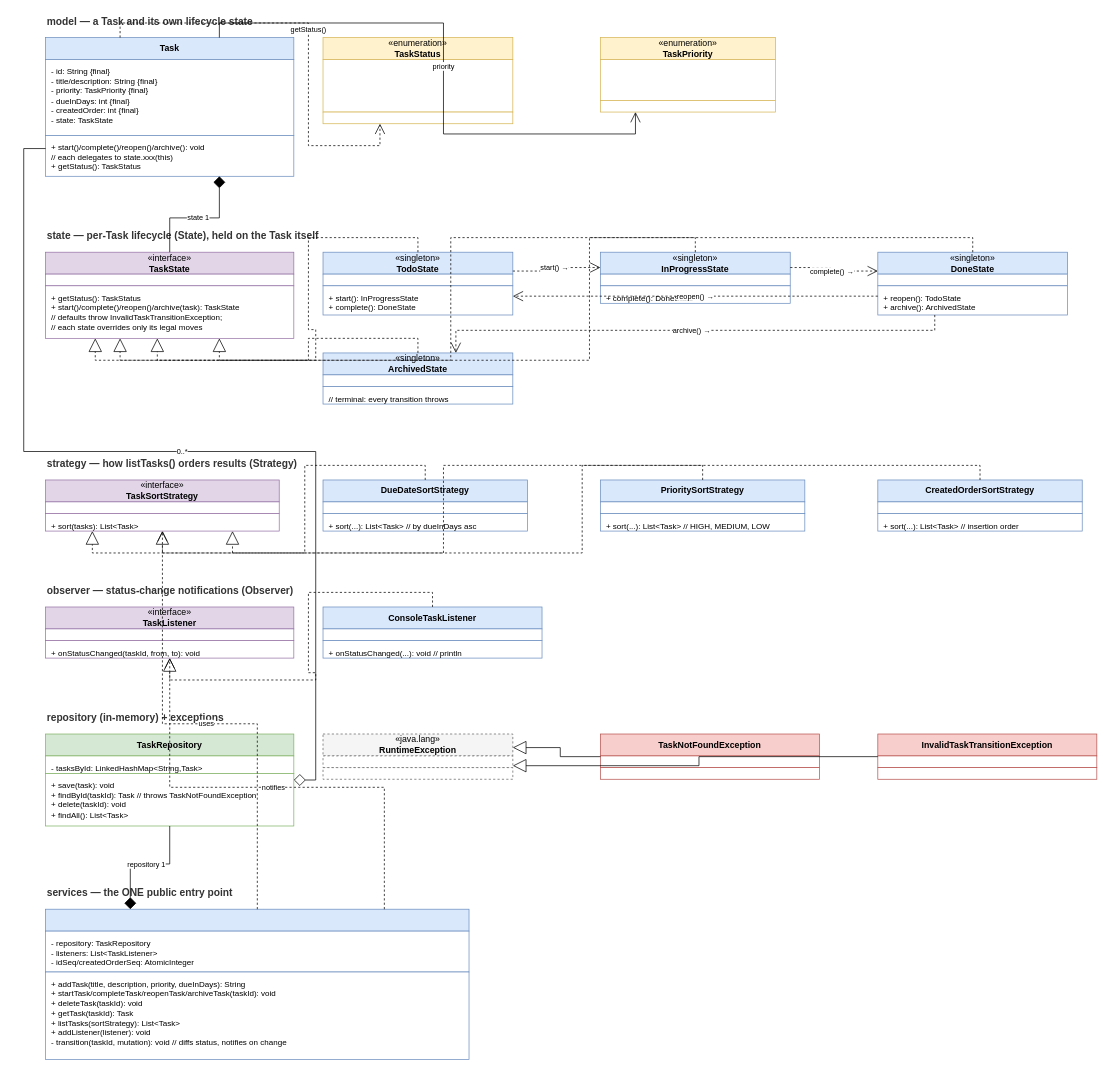
The diagram is 1110 pixels wide and 1072 high, and some of its shapes have lost their labels. Each missing label, with the box of its shape:
LOW MEDIUM HIGH: (600, 59, 776, 100)
TODO IN_PROGRESS DONE ARCHIVED: (322, 59, 513, 112)
TodoListService: (45, 908, 469, 931)
